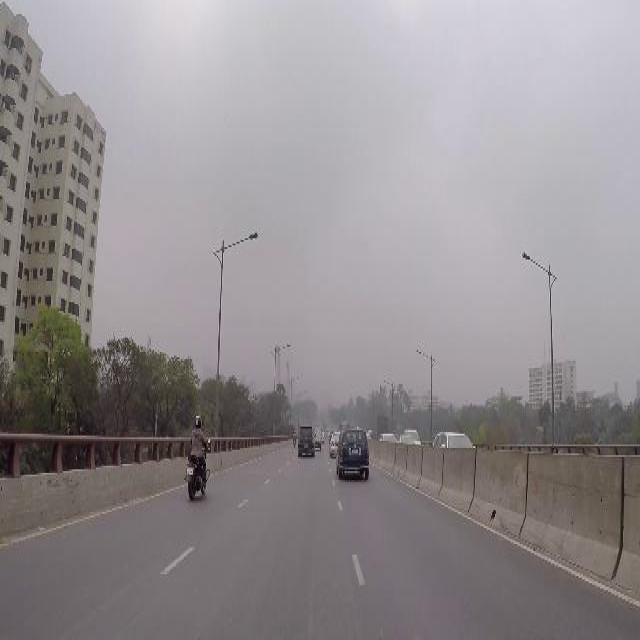bus: (339, 419, 348, 428)
car: (335, 430, 368, 475), (433, 428, 477, 448), (327, 428, 338, 452), (377, 432, 392, 441)
motorcycle: (184, 439, 212, 498), (291, 428, 295, 444)
truck: (297, 425, 315, 457), (404, 427, 420, 442), (313, 425, 321, 450)
